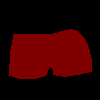shorts: (8, 28, 92, 79)
